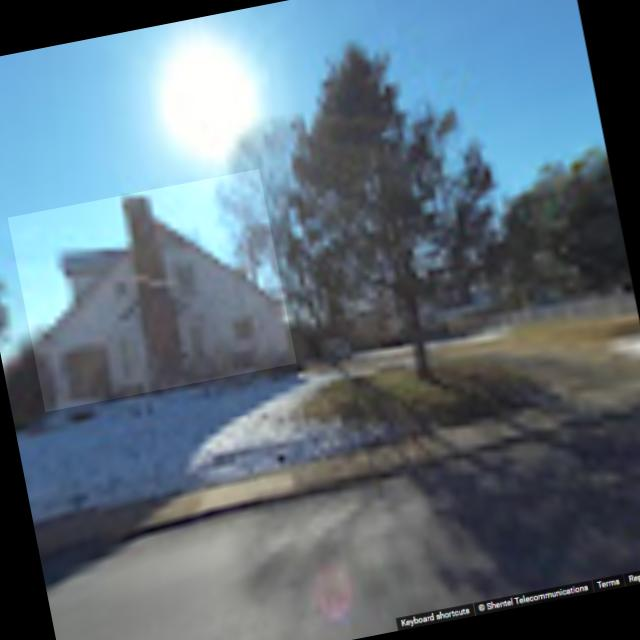House: (9, 169, 298, 412)
